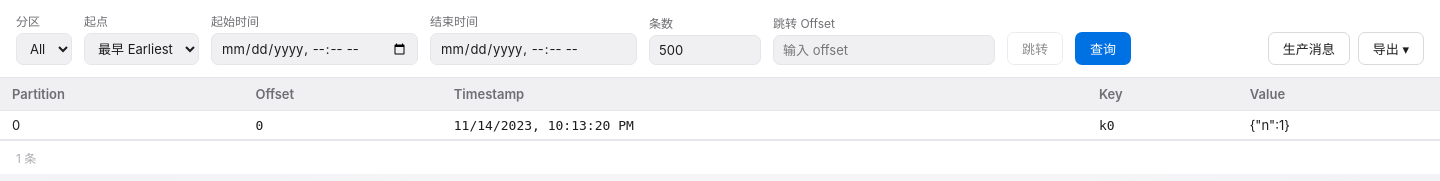
Test: MessageBrowser › restores the offset query after the time range is cleared
Type "2023-11-15T08:30:00" into the field with test id "filter-start-time".
click(314, 49); type("2023-11-15T08:30:00")  # box [211, 33, 418, 65]
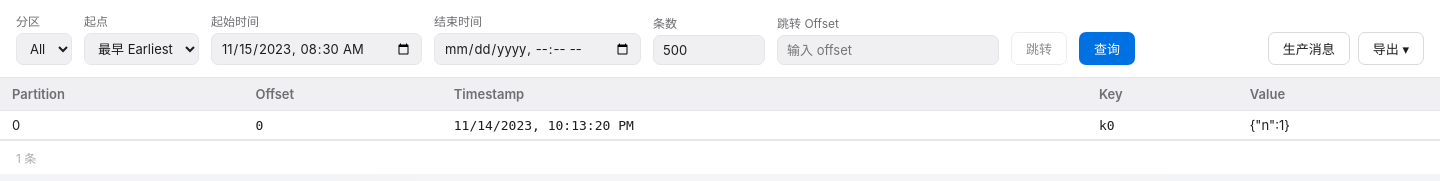
Click the button with test id "btn-query".
click(1107, 48)  # box [1079, 32, 1135, 65]
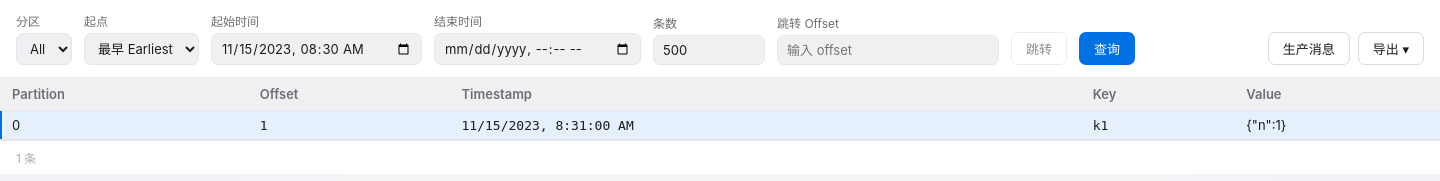
Clear the field with test id "filter-start-time" at [316, 49], box [211, 33, 422, 65]
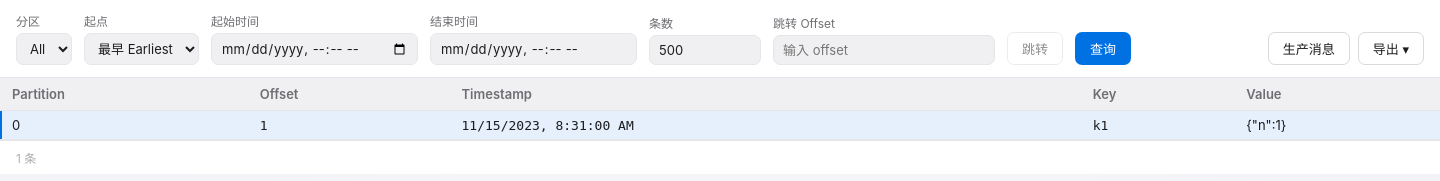
Click the button with test id "btn-query".
click(1103, 48)  # box [1075, 32, 1131, 65]
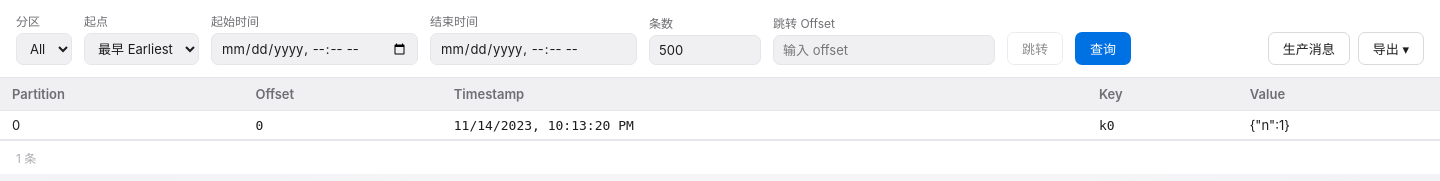
Expected: the number of rows with test id "message-row" is 1, [0, 110, 1439, 140]
